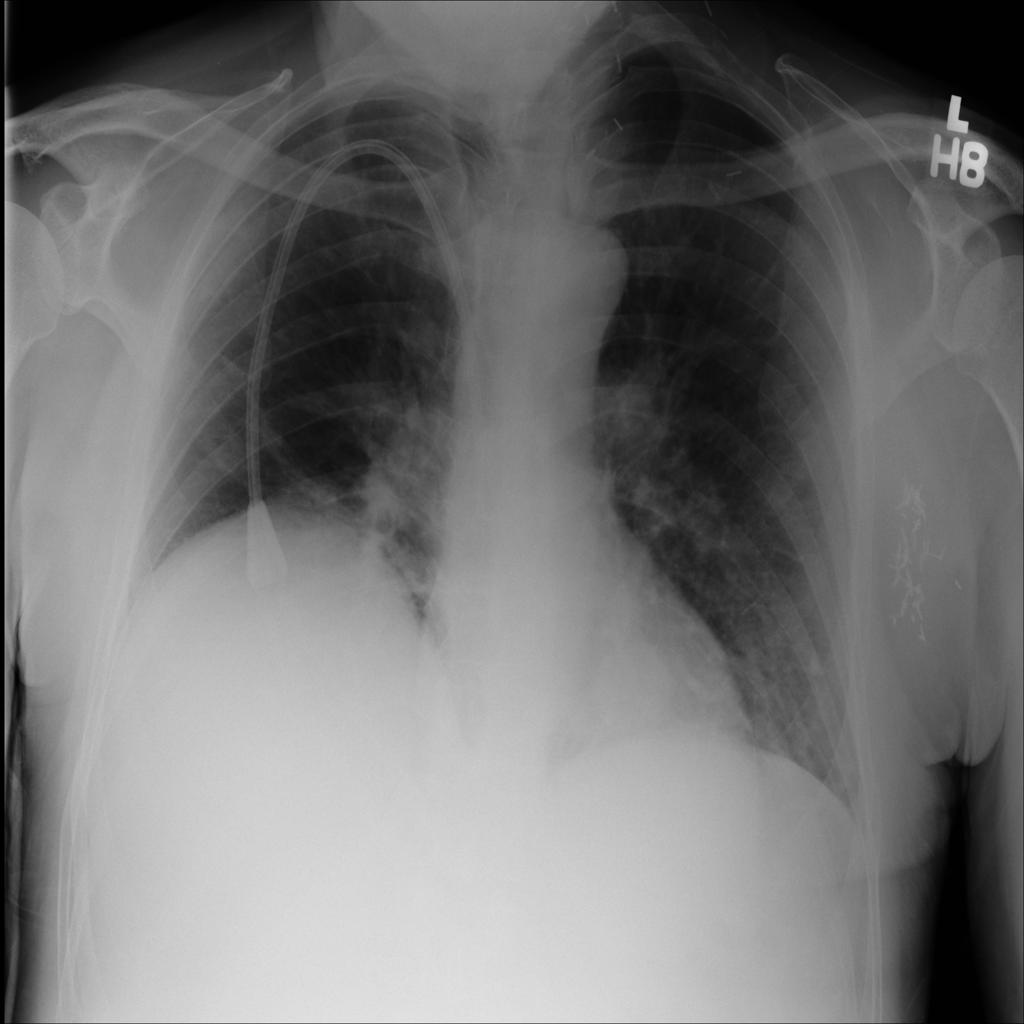nodule: (578, 625, 691, 747)
